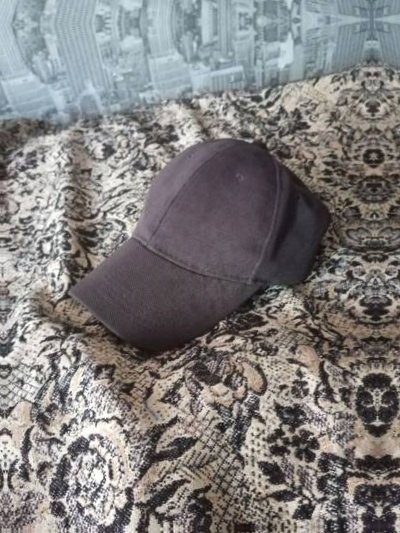Hat: (61, 100, 352, 370), (399, 95, 400, 365)
